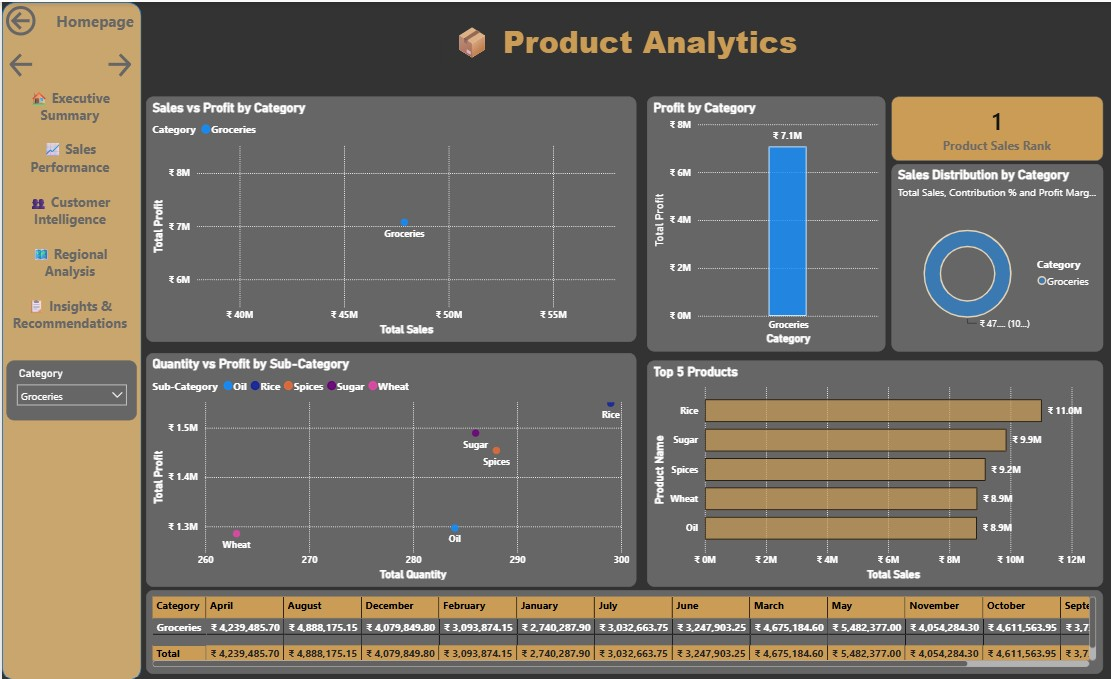

The dashboard page shown, as its layout file describes it:
{"tool":"powerbi","page":{"name":"📦 Product Analytics","canvas":[1470,900],"ordinal":2},"visuals":[{"type":"shape","box":[0,0,184.9,900.7],"z":0},{"type":"barChart","title":"Top 5 Products","fields":{"Category":["India Ecommerce Sales Data (2024 - 2025).Product Name"],"Y":["Measures (2).Total Sales"]},"box":[855,475.2,604.4,300.2],"z":1000},{"type":"clusteredColumnChart","title":"Profit by Category","fields":{"Category":["India Ecommerce Sales Data (2024 - 2025).Category"],"Y":["Measures (2).Total Profit"]},"box":[855,125.3,316.1,338],"z":2000},{"type":"donutChart","title":"Sales Distribution by Category","fields":{"Category":["Ecommerce_Sales_Data_2024_2025.Category"],"Y":["Measures (2).Total Sales"]},"box":[1180,215,280.3,248.5],"z":3000},{"type":"textbox","title":"📦 Product Analytics","box":[582.6,23.9,485.1,59.6],"z":4000},{"type":"cardVisual","title":"Product Rank Card","fields":{"Data":["Measures (2).Product Sales Rank"]},"box":[1180,125.3,280.3,85.5],"z":5000},{"type":"scatterChart","title":"Sales vs Profit by Category","fields":{"X":["Measures (2).Total Sales"],"Y":["Measures (2).Total Profit"],"Category":["India Ecommerce Sales Data (2024 - 2025).Category"],"Series":["India Ecommerce Sales Data (2024 - 2025).Category"]},"box":[190.9,125.3,650.2,325],"z":6000},{"type":"scatterChart","title":"Quantity vs Profit by Sub-Category","fields":{"Y":["Measures (2).Total Profit"],"X":["Measures (2).Total Quantity"],"Category":["India Ecommerce Sales Data (2024 - 2025).Sub-Category"],"Series":["India Ecommerce Sales Data (2024 - 2025).Sub-Category"]},"box":[190.9,465,650.2,310],"z":7000},{"type":"pivotTable","fields":{"Rows":["India Ecommerce Sales Data (2024 - 2025).Category"],"Columns":["Date Table.Month Name"],"Values":["Measures (2).Total Sales"]},"box":[190.9,780,1268.5,111.3],"z":8000},{"type":"slicer","fields":{"Values":["Ecommerce_Sales_Data_2024_2025.Category"]},"box":[6,475.2,173,79.5],"z":9000},{"type":"actionButton","box":[0,0,178.9,49.7],"z":10000},{"type":"actionButton","box":[6,63.6,55.7,40],"z":11000},{"type":"actionButton","box":[135.2,63.6,55.7,40],"z":12000},{"type":"pageNavigator","box":[0,103.4,180.9,346],"z":13000}]}

Visuals, with their boxes on the page's 1470x900 design canvas (x1, y1, x2, y2). These are canvas units, not pixel positions in the 1111x679 screenshot, which may show the page scaled, cropped or inside an application window:
shape: 0:0:185:901
"Top 5 Products" barChart: 855:475:1459:775
"Profit by Category" clusteredColumnChart: 855:125:1171:463
"Sales Distribution by Category" donutChart: 1180:215:1460:464
"📦 Product Analytics" textbox: 583:24:1068:84
"Product Rank Card" cardVisual: 1180:125:1460:211
"Sales vs Profit by Category" scatterChart: 191:125:841:450
"Quantity vs Profit by Sub-Category" scatterChart: 191:465:841:775
pivotTable - India Ecommerce Sales Data (2024 - 2025).Category x Date Table.Month Name: 191:780:1459:891
slicer - Ecommerce_Sales_Data_2024_2025.Category: 6:475:179:555
actionButton: 0:0:179:50
actionButton: 6:64:62:104
actionButton: 135:64:191:104
pageNavigator: 0:103:181:449
